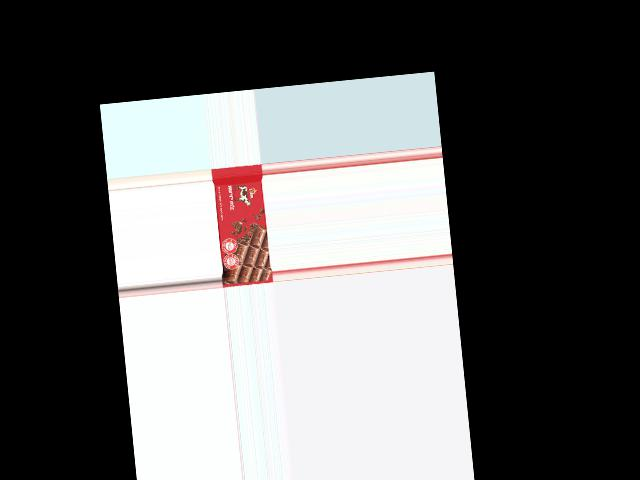chocolate: (211, 163, 272, 286)
